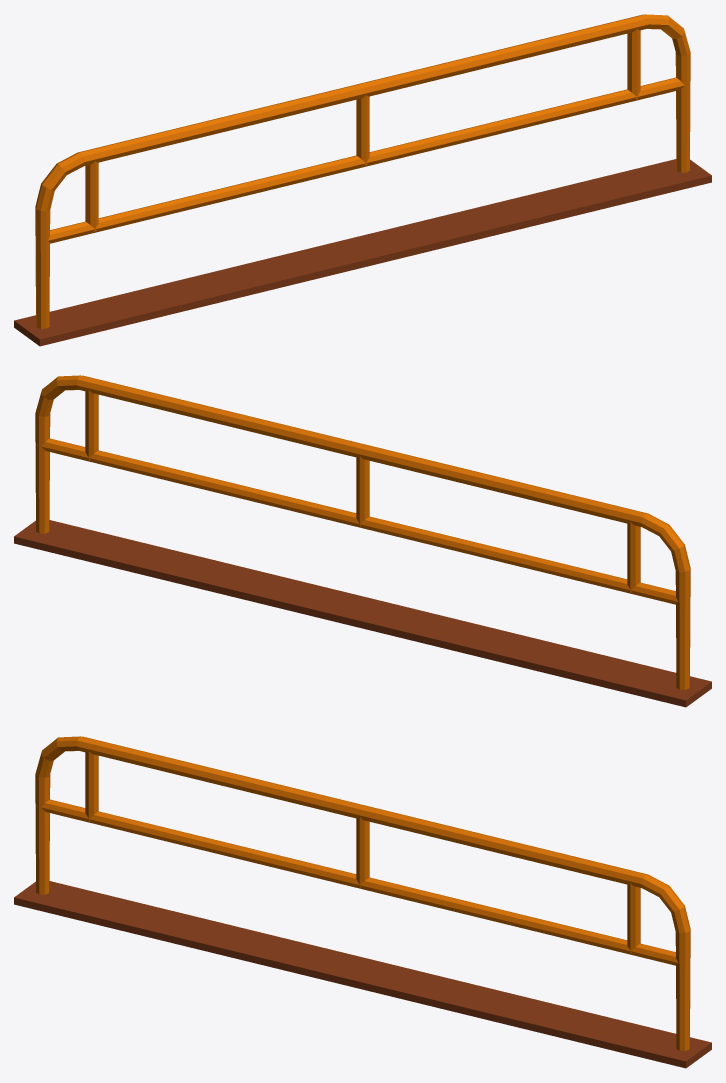
File: Railing1.FBX
3 renders of one model, top to bottom at view 1: azimuth 30°, elevation 25°; view 2: azimuth 150°, elevation 25°; view 3: azimuth 330°, elevation 25°, orthographic.
Visible parts, largest first — view 1: Railing1; view 2: Railing1; view 3: Railing1.
Part boxes in pixels (x1,y1,x2,y2): Railing1: (14,14,711,346); Railing1: (14,375,711,707); Railing1: (14,736,711,1068).
Bounding box in the file's own units: 300 × 74.1 × 20.
